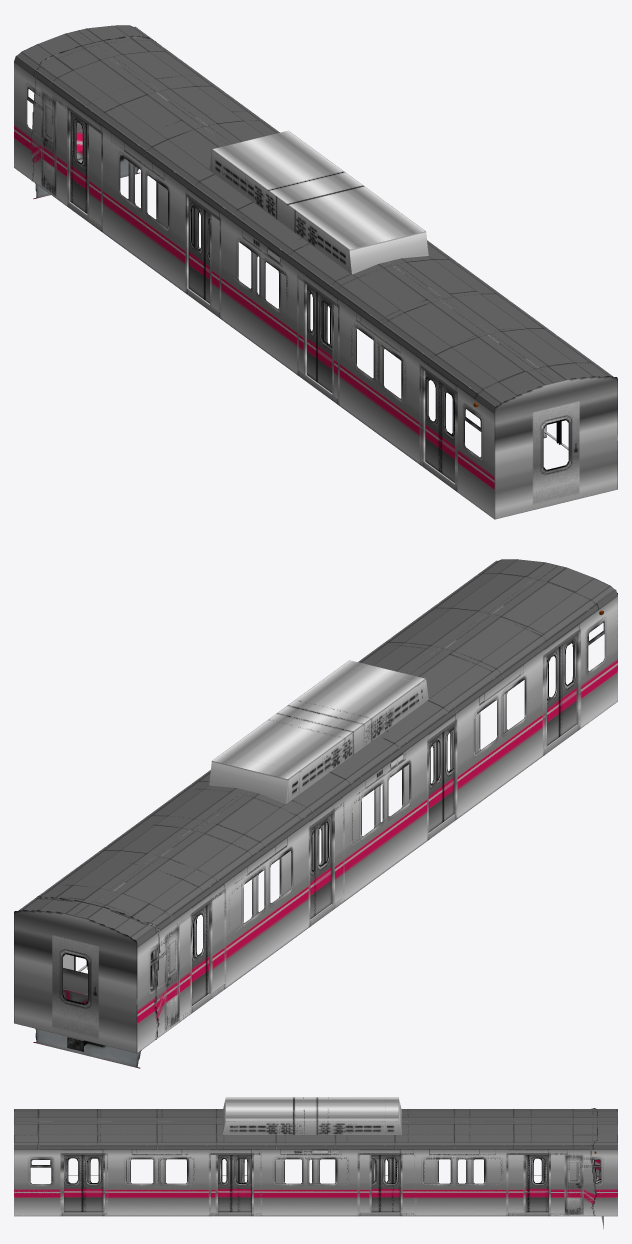
The picture shows the model from 3 angles, top to bottom: view 1: azimuth 30°, elevation 25°; view 2: azimuth 150°, elevation 25°; view 3: azimuth 270°, elevation 25°; orthographic projection. The views are drawn at different scales.
Visible parts, largest first — view 1: cab-shell-0, trailer-shell-5, cab-left-4, trailer-left-7, cab-left-2, trailer-left-9; view 2: trailer-shell-5, cab-shell-0, cab-left-4, trailer-left-7, cab-left-2, trailer-left-9; view 3: cab-shell-0, trailer-shell-5, cab-right-1, trailer-right-8, cab-right-3, trailer-right-6.
Boxes of the visible parts, x1,y1,x2,y2 form: cab-shell-0: [29, 35, 617, 519]; trailer-shell-5: [14, 25, 610, 517]; cab-left-4: [70, 112, 441, 472]; trailer-left-7: [72, 114, 453, 475]; cab-left-2: [86, 124, 454, 482]; trailer-left-9: [70, 112, 439, 471]; trailer-shell-5: [14, 559, 617, 1053]; cab-shell-0: [33, 559, 617, 1068]; cab-left-4: [192, 655, 561, 1005]; trailer-left-7: [193, 642, 574, 1003]; cab-left-2: [206, 634, 576, 994]; trailer-left-9: [312, 647, 559, 916]; cab-shell-0: [14, 1097, 603, 1228]; trailer-shell-5: [14, 1097, 617, 1216]; cab-right-1: [82, 1155, 548, 1212]; trailer-right-8: [64, 1155, 546, 1212]; cab-right-3: [64, 1155, 528, 1212]; trailer-right-6: [85, 1155, 548, 1212].
Size of the model in its own units: 3.02 by 3.62 by 19.
1 material, 1 textured.
